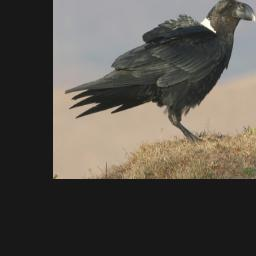Crow: (63, 0, 256, 148)
